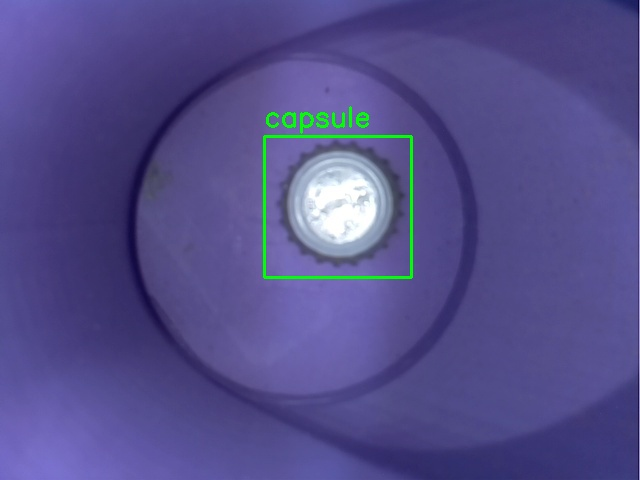capsule: (264, 136, 411, 277)
